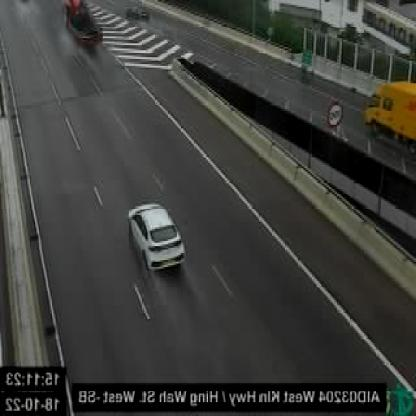Car: (126, 201, 186, 274)
Truck: (364, 75, 416, 146), (62, 1, 104, 48)
